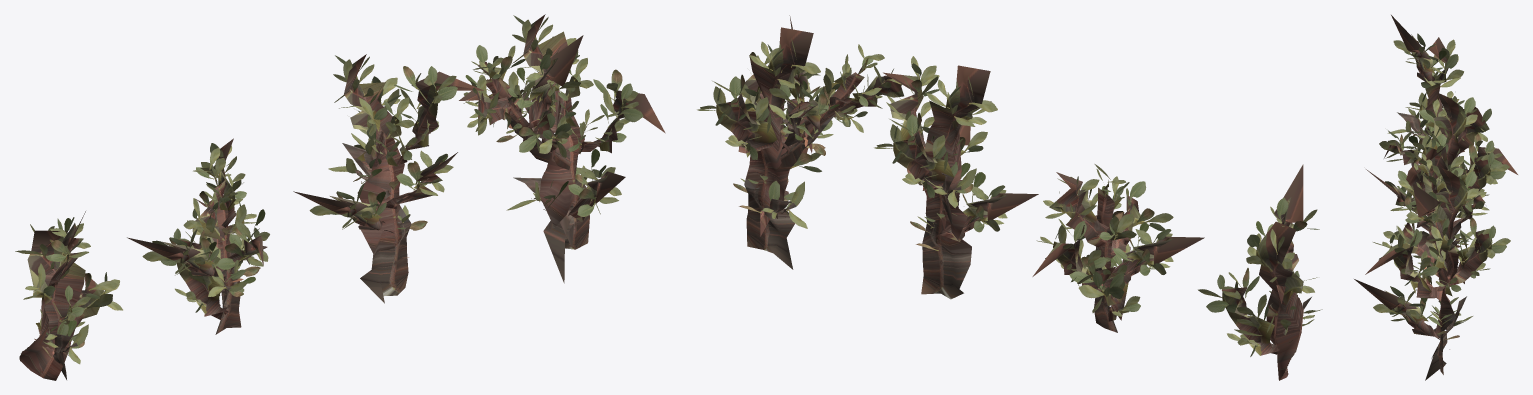
Rendered from shrub_c.glb.
3 renders of one model, left to right at view 1: azimuth 30°, elevation 25°; view 2: azimuth 150°, elevation 25°; view 3: azimuth 270°, elevation 25°, orthographic. The views are drawn at different scales.
Visible parts, largest first — view 1: shrub_c; view 2: shrub_c; view 3: shrub_c.
Part boxes in pixels (bbox=[...]): shrub_c: bbox=[15, 14, 665, 380]; shrub_c: bbox=[697, 15, 1322, 380]; shrub_c: bbox=[1354, 15, 1517, 380].
Size of the model in its own units: 0.5858 by 0.2428 by 0.1721.
Materials: 1 (1 with a texture image).
